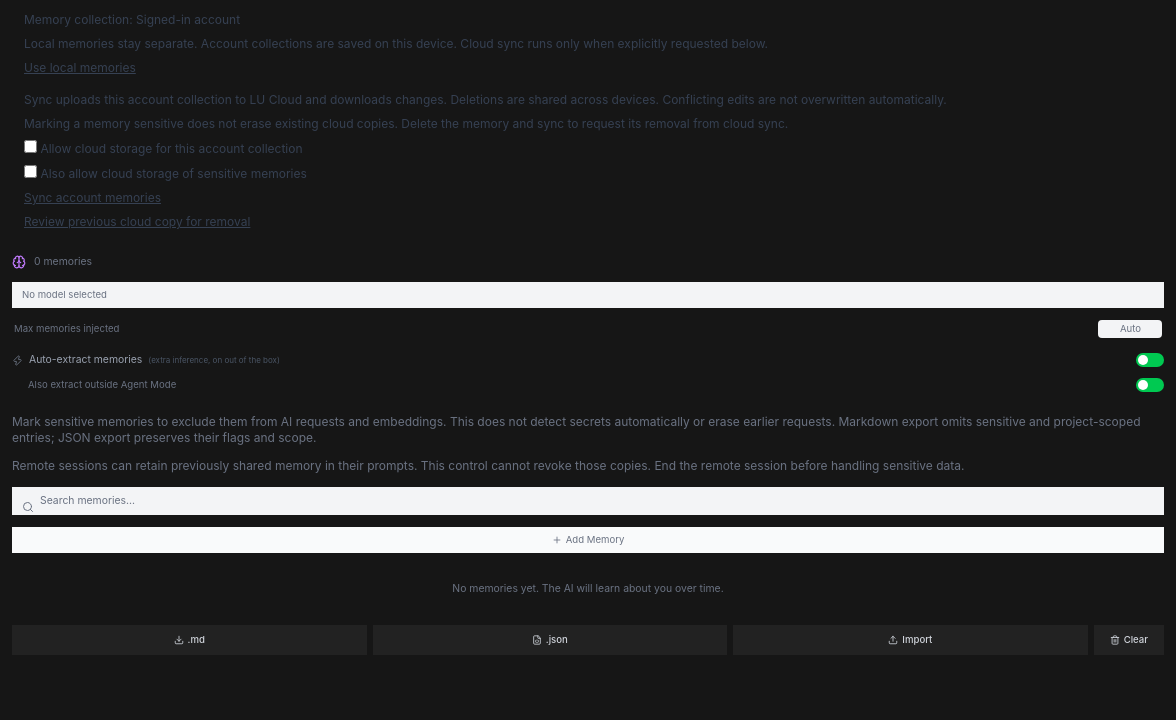
Scenario: der Altpfad in den Erinnerungseinstellungen › traegt die Aufschriften des Webs, nicht mehr die alten kurzen
The image size is (1176, 720).
Click the checkbox labelled "Allow cloud storage for this account collection". click: (30,146)
box: [24,140,37,153]
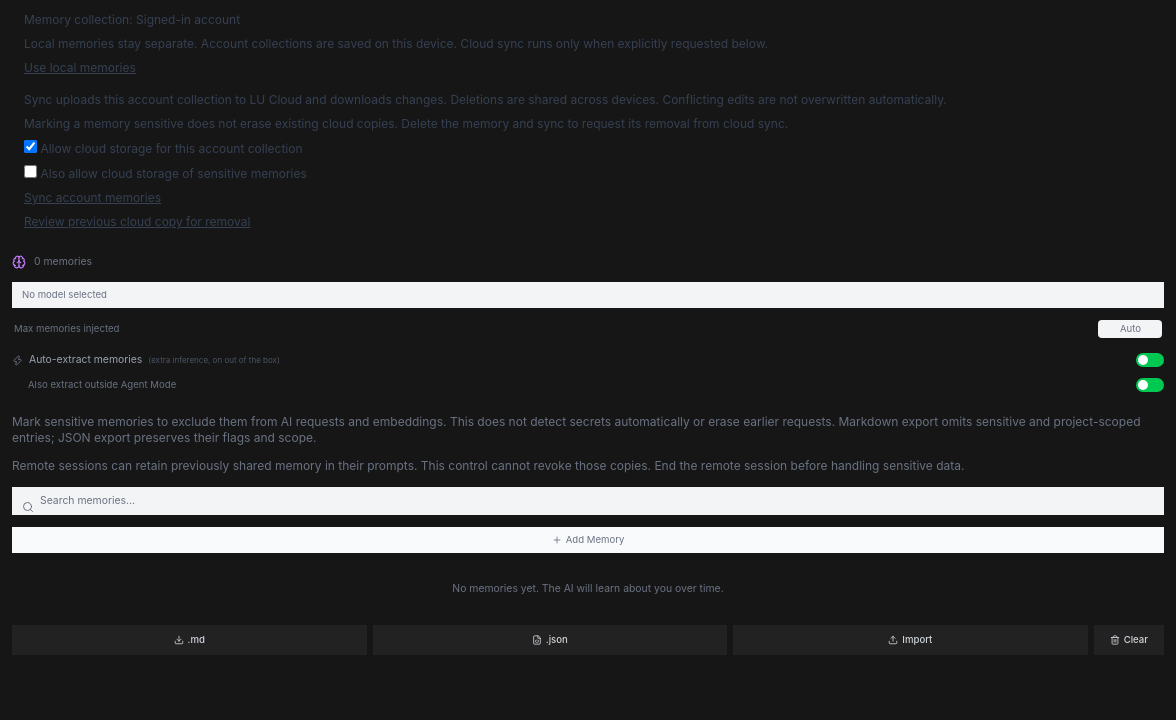
Click the button "Review previous cloud copy for removal". click: (137,222)
box: [24,214,250,230]
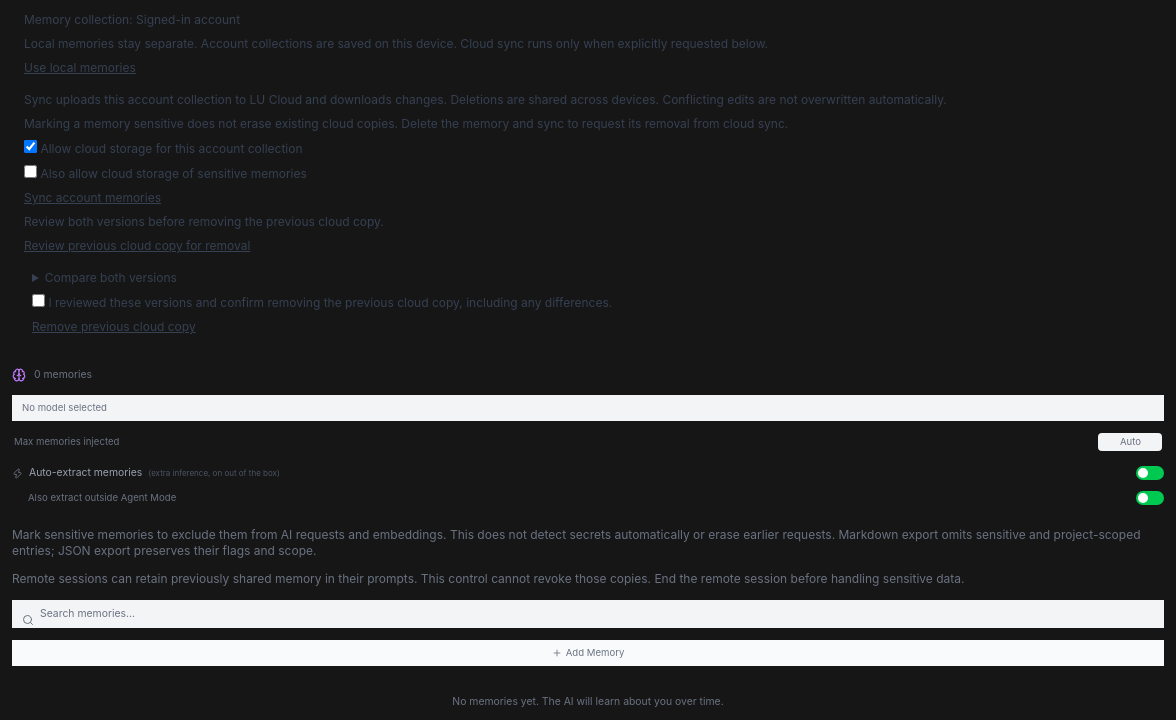
Result: the button "Remove previous cloud copy" is shown at [32,319,196,335]
